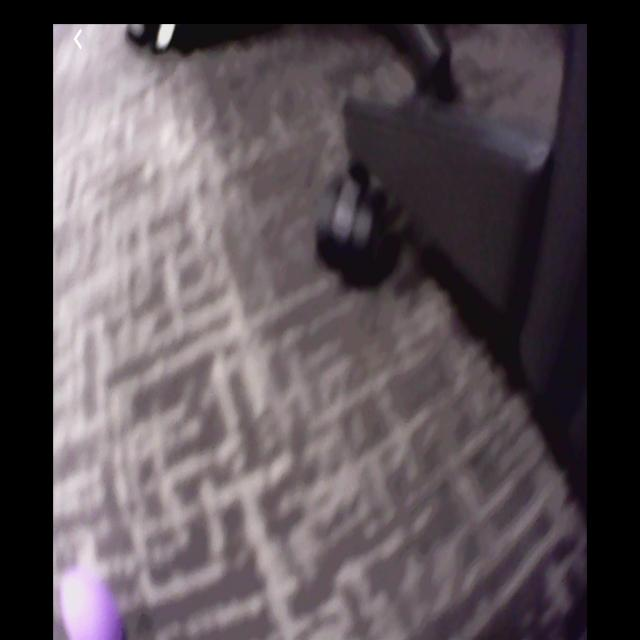ball: (54, 572, 127, 638)
